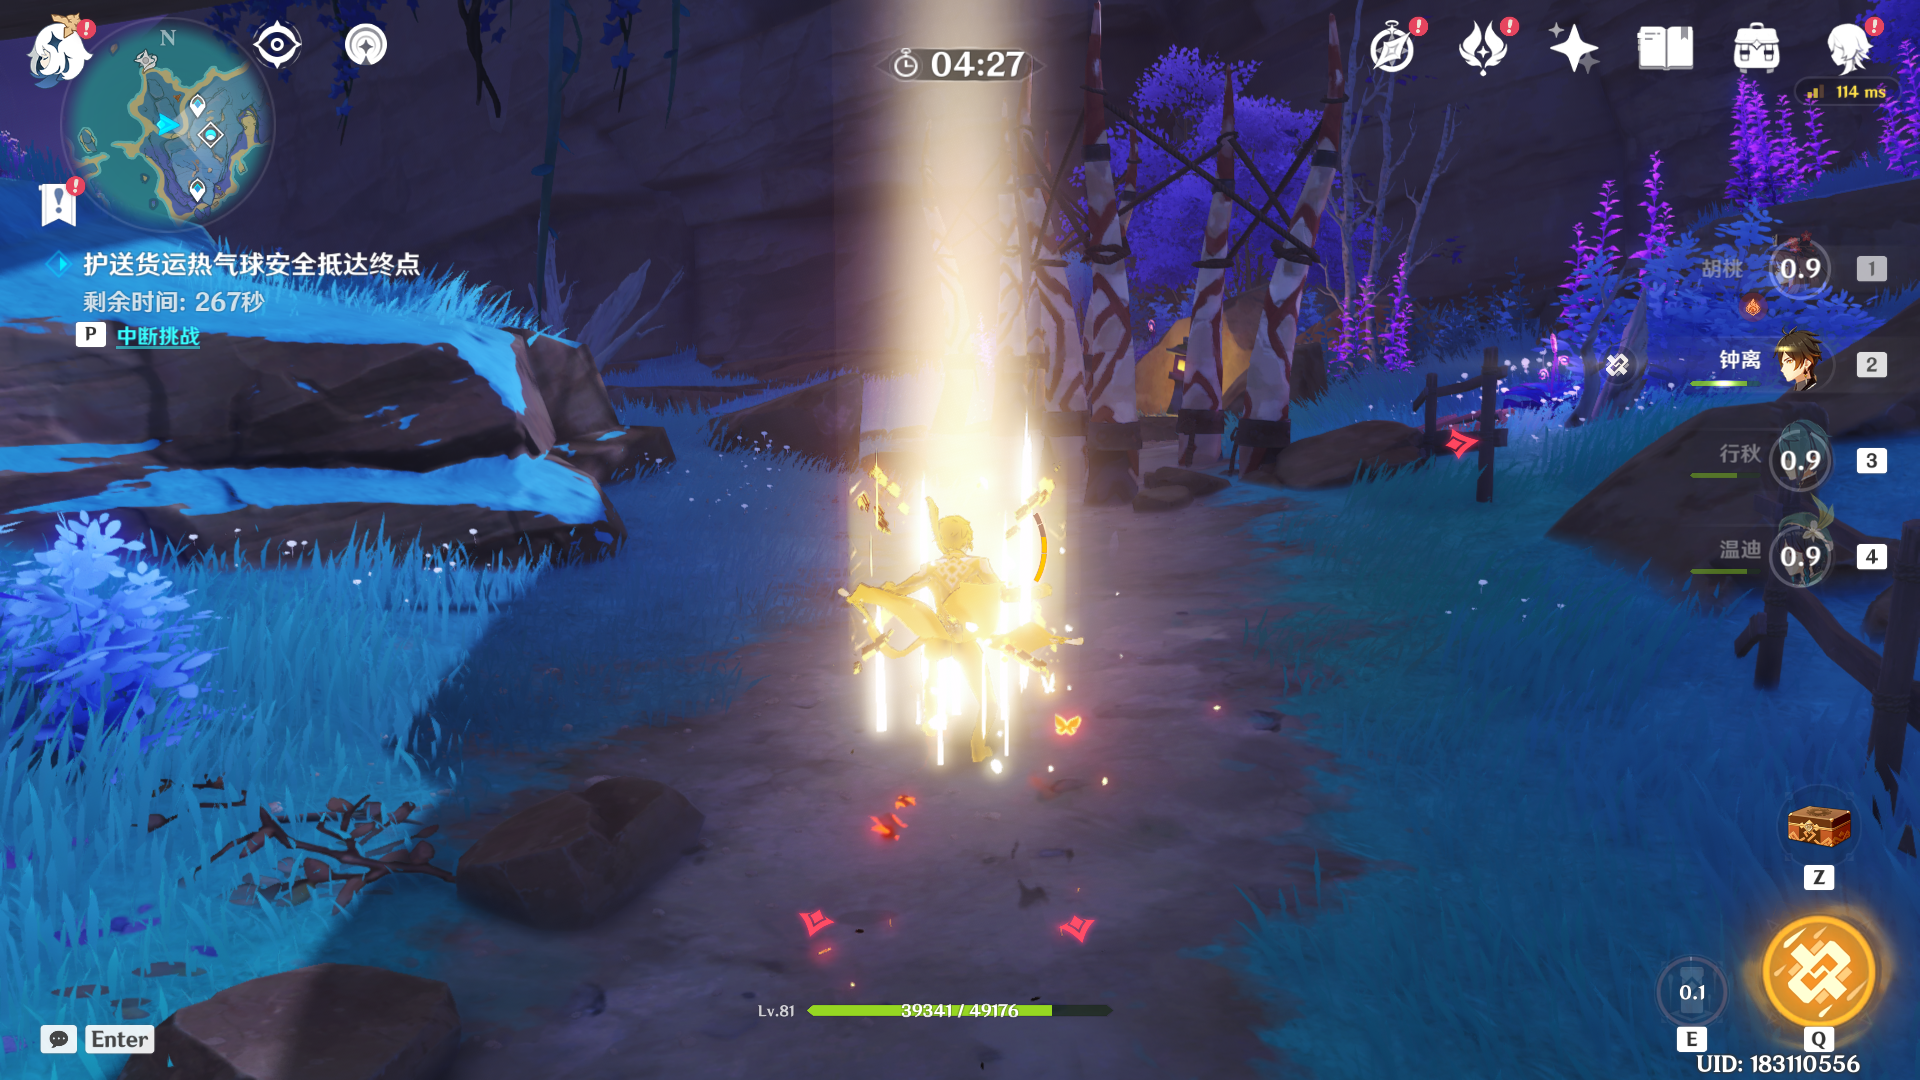character: (820, 473, 1108, 793)
